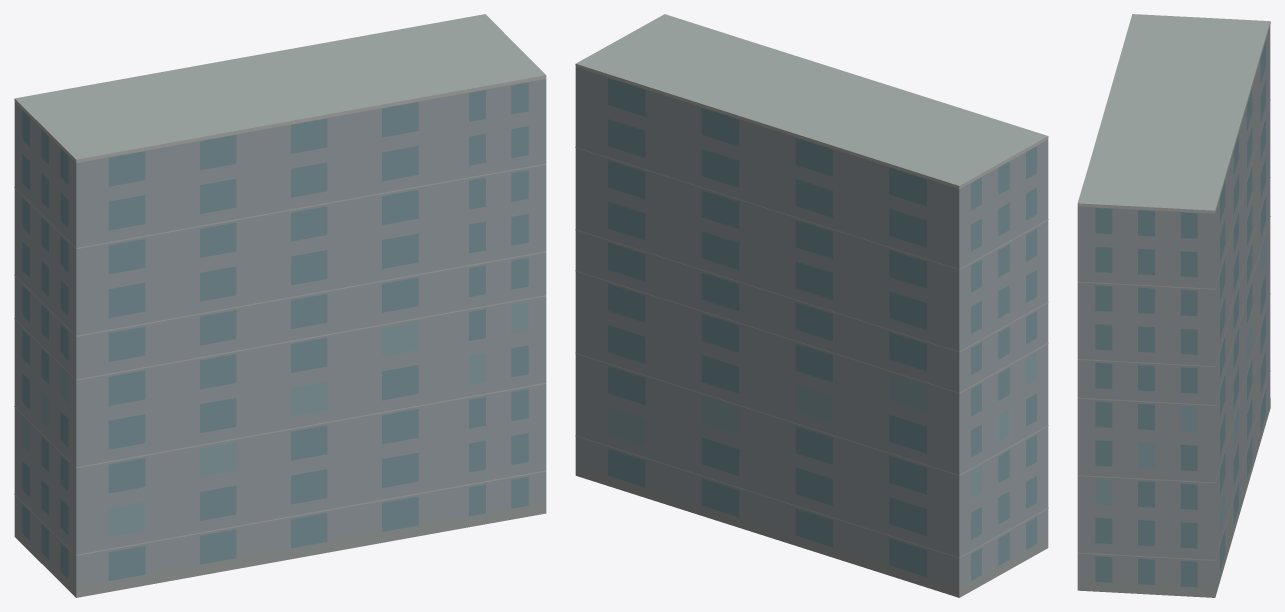
Rendered from residential-8e6e49eb-72d7-4a15-88ac-227b5a23645a.glb.
3 renders of one model, left to right at view 1: azimuth 30°, elevation 25°; view 2: azimuth 150°, elevation 25°; view 3: azimuth 270°, elevation 25°, orthographic. The views are drawn at different scales.
Visible parts, largest first — view 1: residential-8e6e49eb-72d7-4a15-88ac-227b5a23645a.tmp; view 2: residential-8e6e49eb-72d7-4a15-88ac-227b5a23645a.tmp; view 3: residential-8e6e49eb-72d7-4a15-88ac-227b5a23645a.tmp.
Part boxes in pixels (bbox=[...]): residential-8e6e49eb-72d7-4a15-88ac-227b5a23645a.tmp: bbox=[14, 14, 546, 597]; residential-8e6e49eb-72d7-4a15-88ac-227b5a23645a.tmp: bbox=[575, 14, 1048, 597]; residential-8e6e49eb-72d7-4a15-88ac-227b5a23645a.tmp: bbox=[1077, 14, 1270, 597].
Size of the model in its own units: 33.24 by 30.5 by 13.8.
